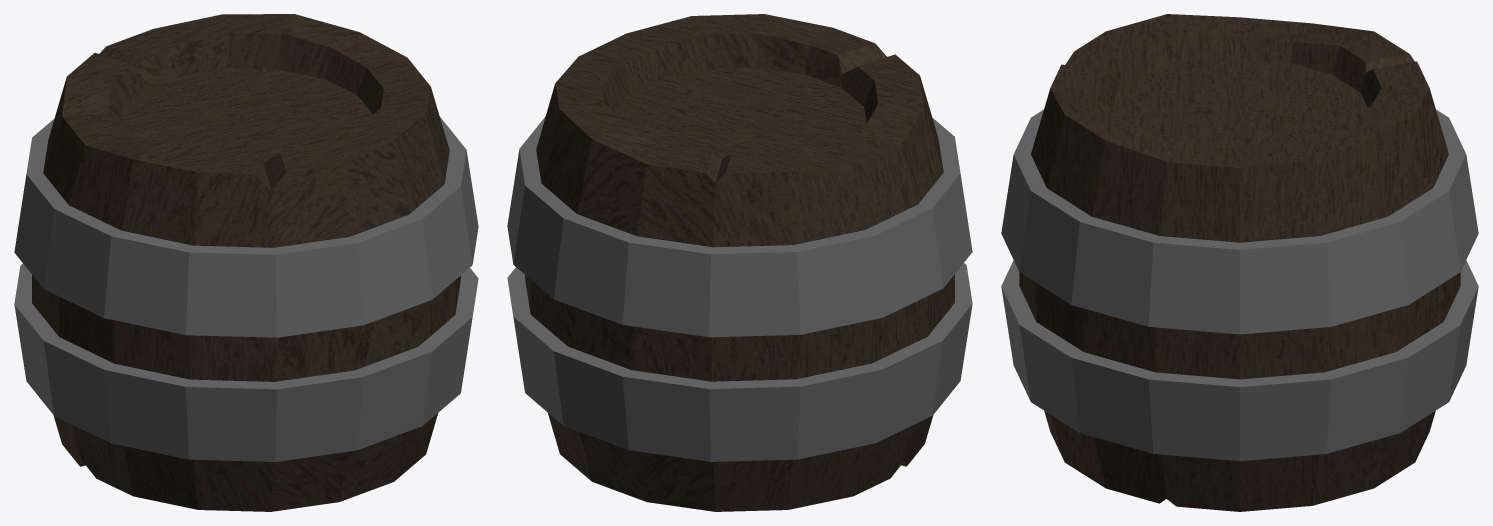
Rendered from barrel.fbx.
3 views of the same model, side by side, from view 1: azimuth 30°, elevation 25°; view 2: azimuth 150°, elevation 25°; view 3: azimuth 270°, elevation 25° (orthographic).
Parts seen in each view (by area): view 1: Cylinder; view 2: Cylinder; view 3: Cylinder.
Boxes of the visible parts, x1,y1,x2,y2 form: Cylinder: (14,14,478,511); Cylinder: (507,14,972,511); Cylinder: (1001,14,1478,511).
Size of the model in its own units: 252 by 204 by 252.
2 materials, 1 textured.
